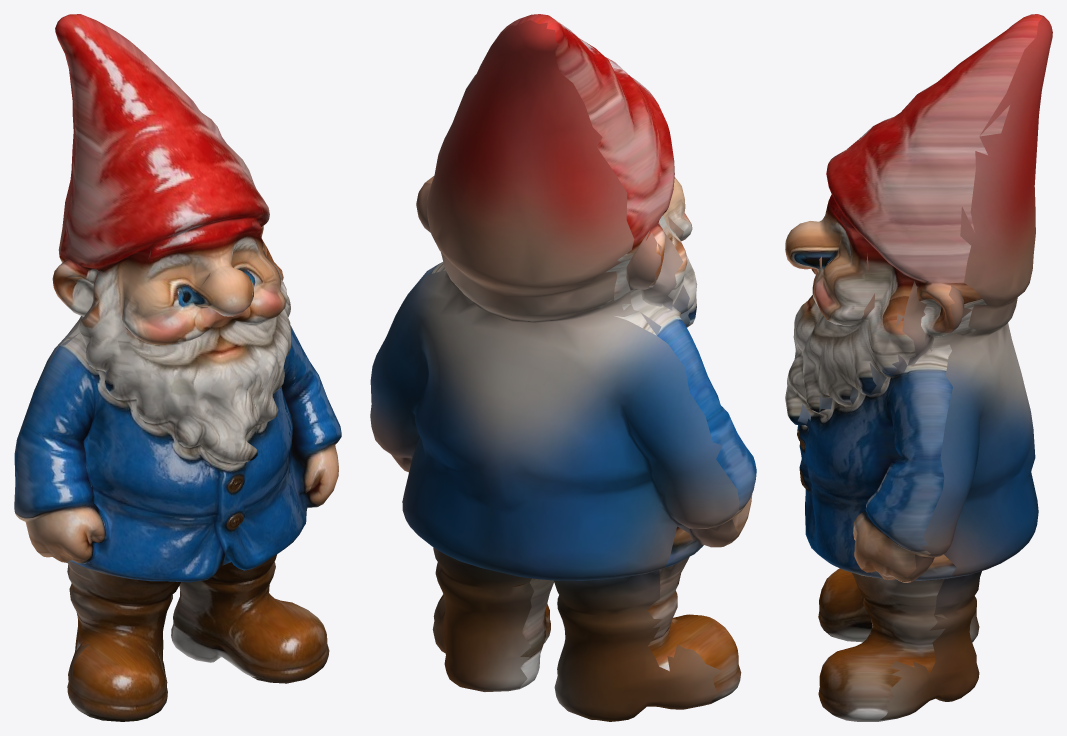
File: gnome.glb
The picture shows the model from 3 angles, left to right: view 1: azimuth 30°, elevation 25°; view 2: azimuth 150°, elevation 25°; view 3: azimuth 270°, elevation 25°; orthographic projection. The views are drawn at different scales.
Parts seen in each view (by area): view 1: gnome; view 2: gnome; view 3: gnome.
Part boxes in pixels (x1,y1,x2,y2): gnome: (14,14,341,721); gnome: (370,14,756,721); gnome: (785,14,1052,721).
Bounding box in the file's own units: 4.5 × 8.43 × 3.25.
Materials: 1 (1 with a texture image).
